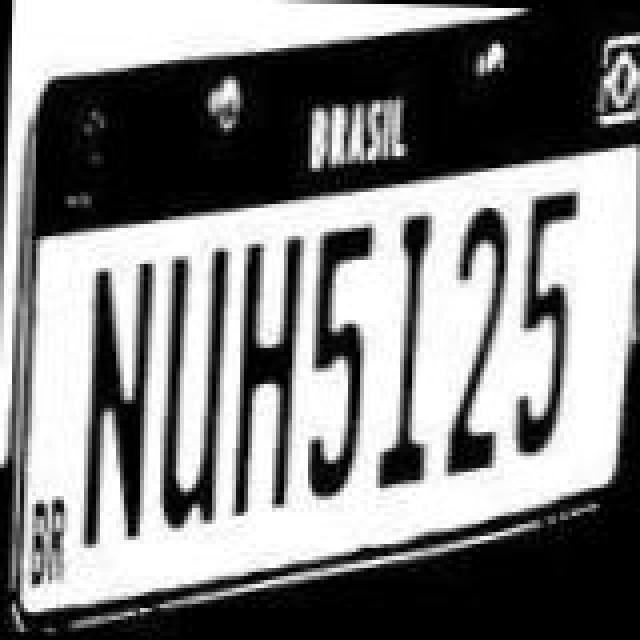2: (438, 178, 518, 466)
5: (304, 196, 380, 484), (514, 168, 586, 440)
H: (226, 212, 310, 504)
I: (372, 186, 448, 478)
N: (78, 242, 162, 554)
U: (150, 224, 234, 528)
